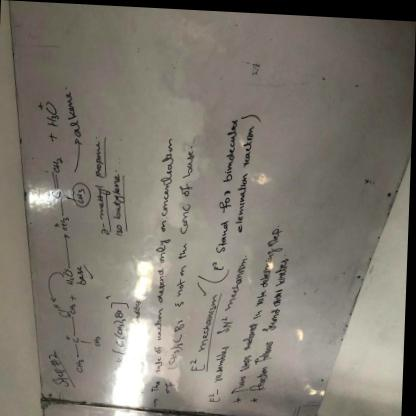Handwritten text: (225, 212, 291, 399), (145, 130, 179, 398), (248, 238, 302, 396), (168, 142, 203, 300), (214, 106, 237, 258), (234, 117, 255, 234), (222, 245, 255, 314), (93, 139, 110, 219), (63, 93, 86, 140), (109, 173, 127, 220), (212, 340, 231, 384), (162, 371, 181, 398), (53, 367, 72, 394), (76, 263, 88, 288)
Whiteboard: (0, 4, 413, 416)
